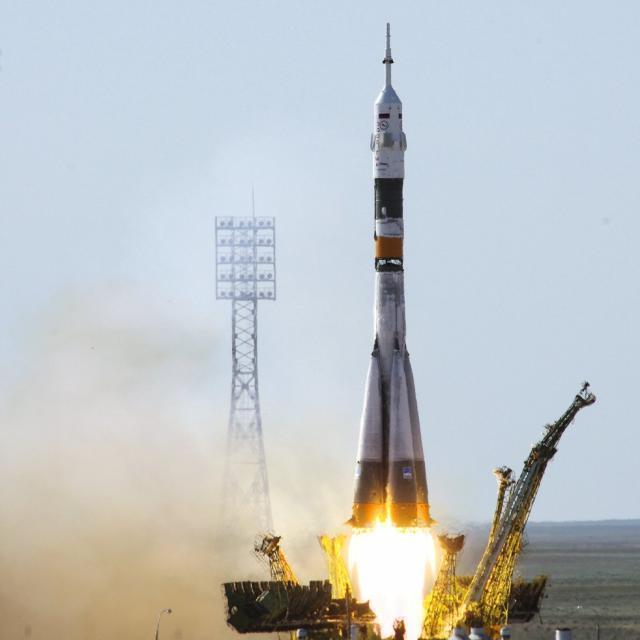missile: (330, 20, 453, 554)
